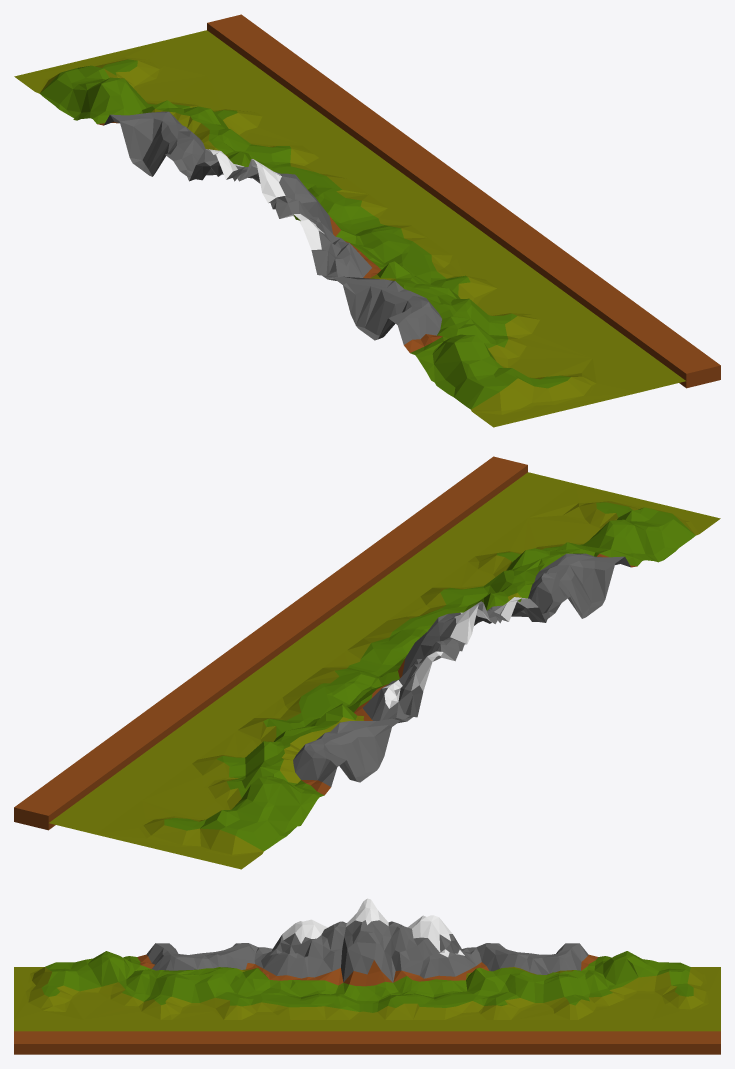
Rendered from map_full.fbx.
The picture shows the model from 3 angles, top to bottom: view 1: azimuth 30°, elevation 25°; view 2: azimuth 150°, elevation 25°; view 3: azimuth 270°, elevation 25°; orthographic projection. The views are drawn at different scales.
Parts seen in each view (by area): view 1: Plane, Cube; view 2: Plane, Cube; view 3: Plane, Cube.
Part boxes in pixels (box(x1,y1,x2,y2)): Plane: box(14, 30, 685, 427); Cube: box(207, 14, 720, 388); Plane: box(49, 472, 720, 869); Cube: box(14, 456, 527, 830); Plane: box(14, 898, 720, 1031); Cube: box(14, 1031, 720, 1054).
Size of the model in its own units: 19822 by 8342 by 72000.
